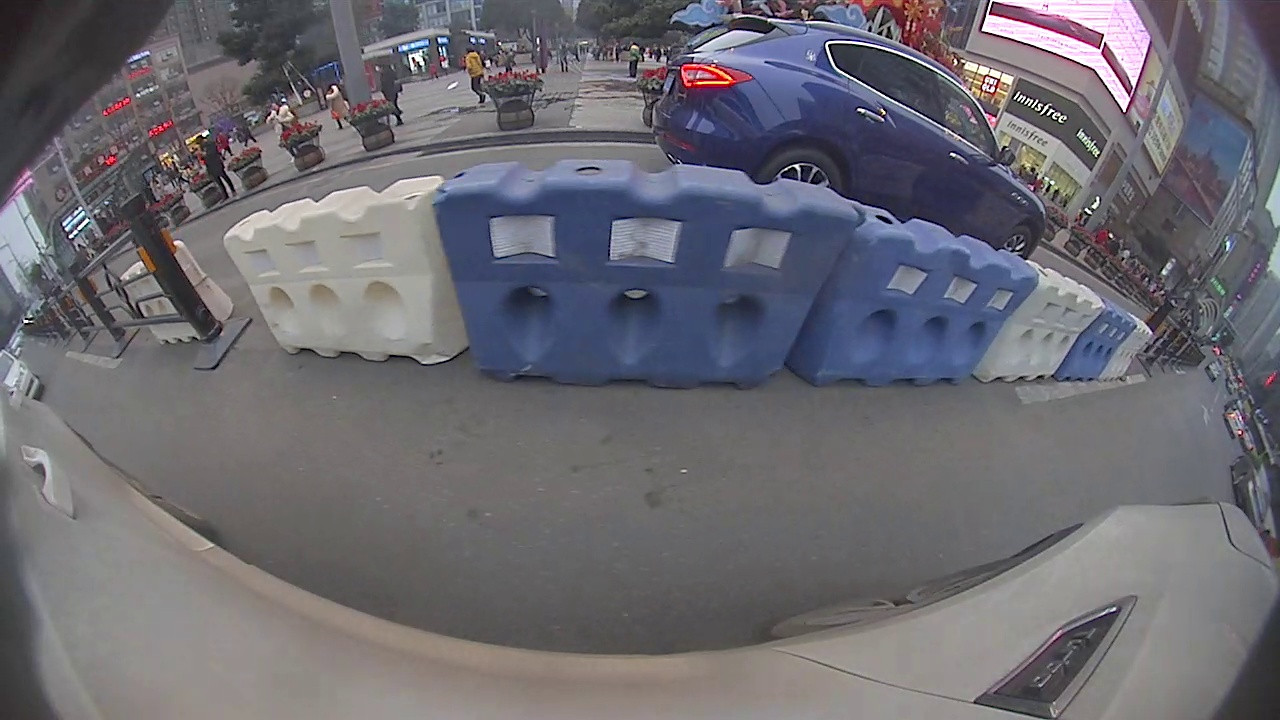car: (654, 18, 1043, 259)
front: (1003, 222, 1035, 257)
person: (193, 139, 237, 206)
rear: (759, 140, 843, 193)
